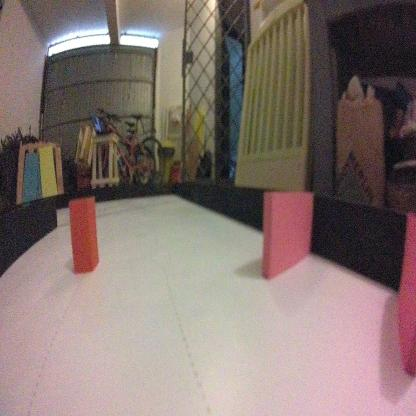magenta: (259, 187, 314, 285), (398, 208, 416, 384)
red: (66, 192, 100, 276)
